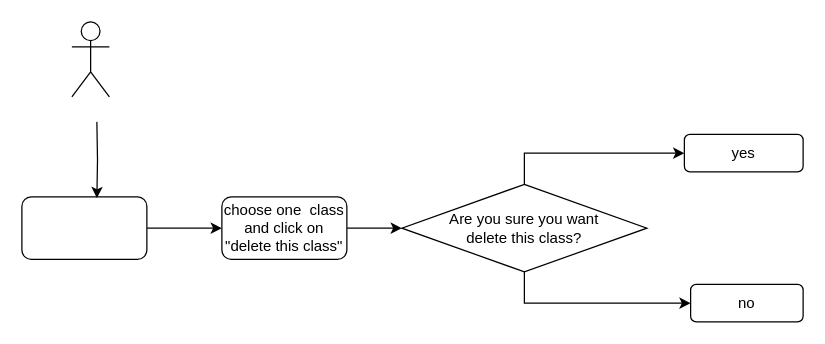
Some shapes in this 825 by 344 pixel diagram are drawn without their labels. Here are the shapes that lost their labels. From the top down, the centre of each, then its label:
(90,59): Admin User
(84,227): Click on "view all classes"
